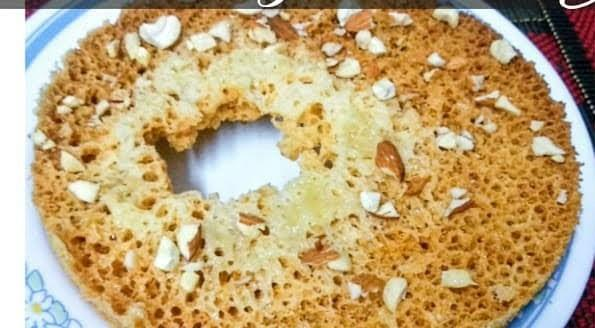Ghevar: (31, 1, 585, 328)
